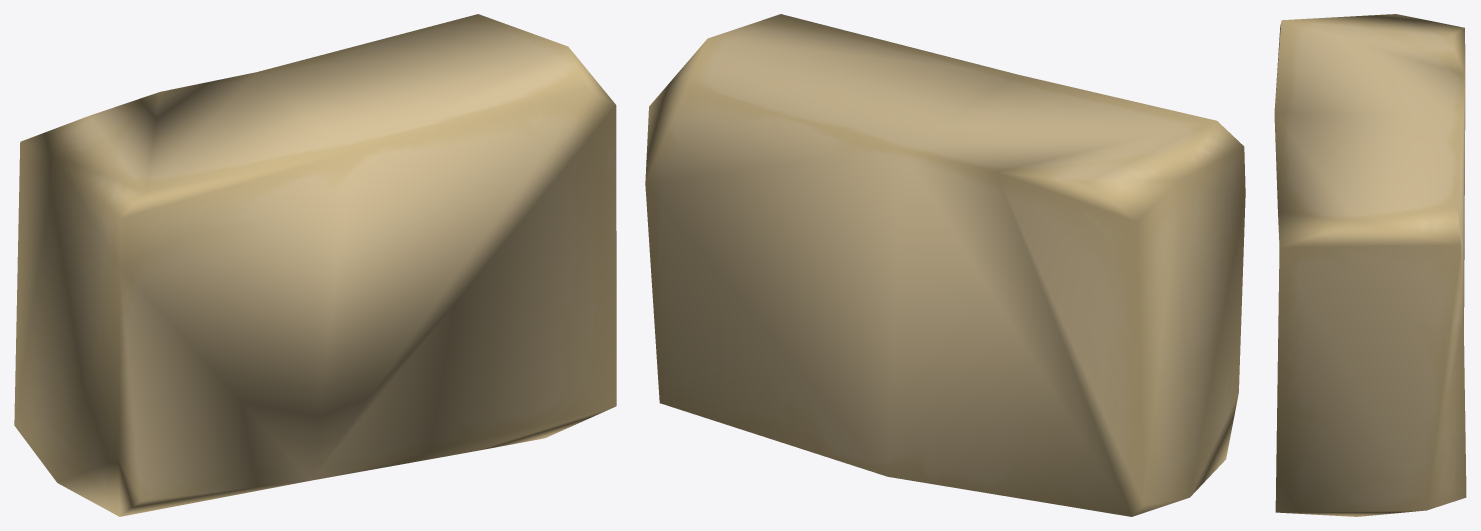
File: Brick4.fbx
The picture shows the model from 3 angles, left to right: view 1: azimuth 30°, elevation 25°; view 2: azimuth 150°, elevation 25°; view 3: azimuth 270°, elevation 25°; orthographic projection. The views are drawn at different scales.
Parts seen in each view (by area): view 1: 4low1; view 2: 4low1; view 3: 4low1.
Part boxes in pixels (x1,y1,x2,y2): 4low1: [14, 14, 616, 516]; 4low1: [645, 14, 1245, 516]; 4low1: [1274, 14, 1466, 516].
Bounding box in the file's own units: 0.5061 × 0.3323 × 0.189.
1 material, 1 textured.
